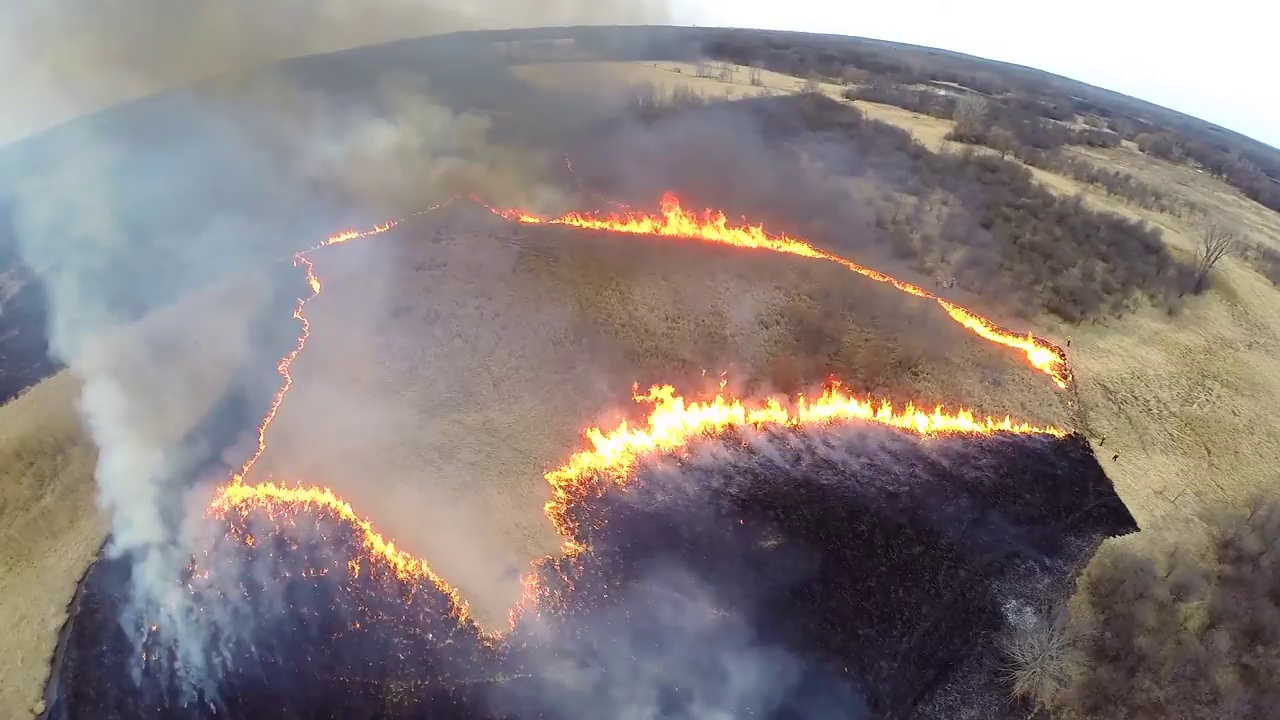forest_fire: (489, 193, 1069, 385), (208, 221, 469, 620), (534, 382, 1063, 572), (544, 381, 1064, 553), (509, 569, 554, 629), (409, 203, 441, 216), (511, 608, 517, 615), (245, 534, 247, 535)
